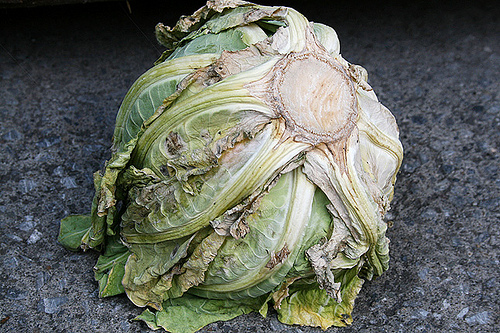cabbage: (53, 0, 407, 331)
